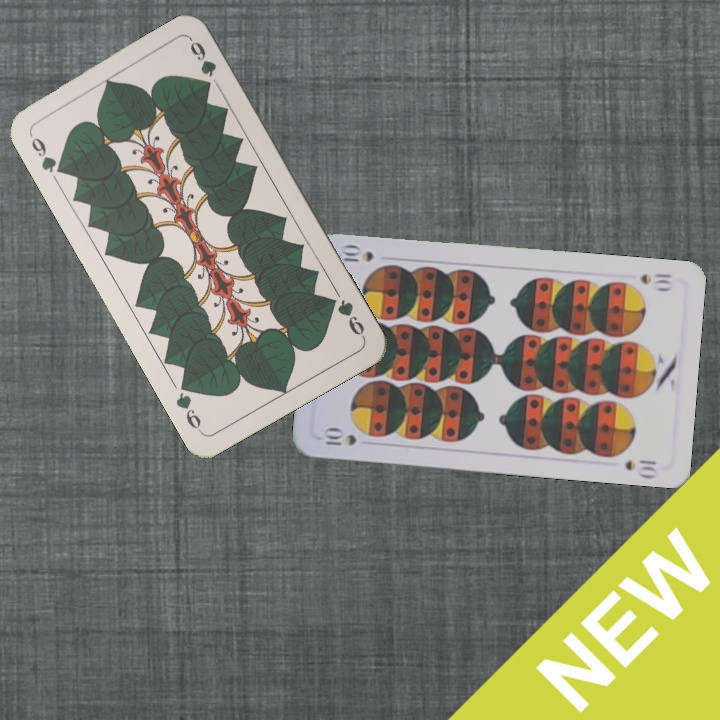G9: (323, 293, 368, 341), (27, 133, 69, 177)
S10: (319, 425, 359, 449), (636, 269, 675, 293)
